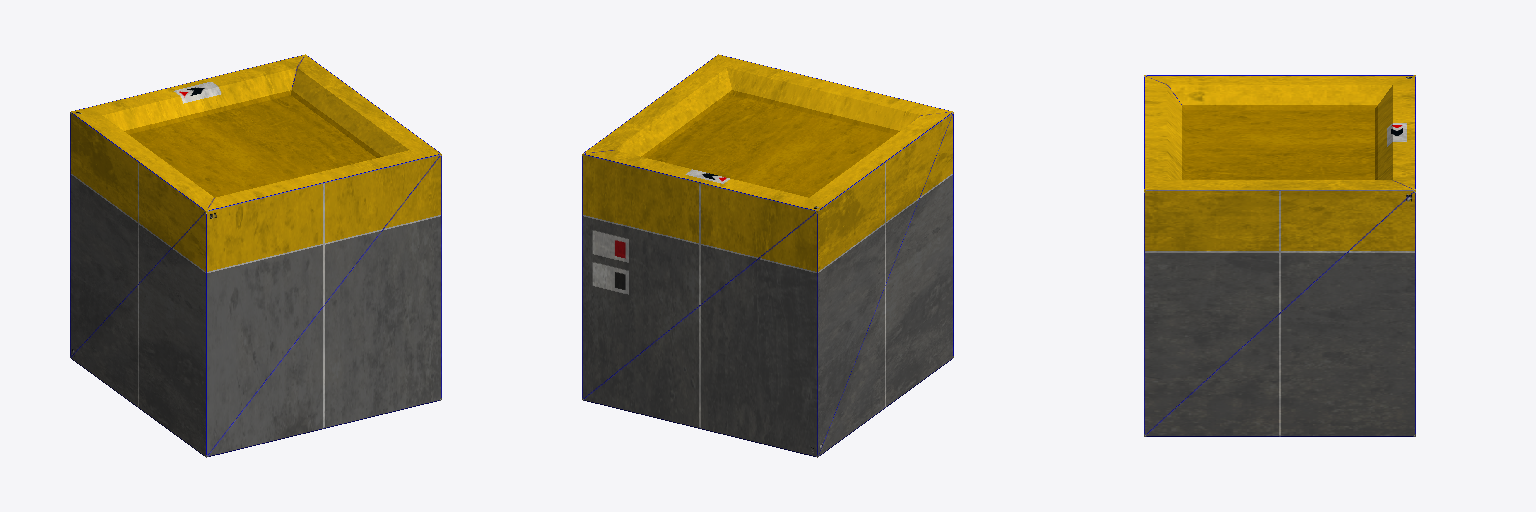
3 renders of one model, left to right at view 1: azimuth 30°, elevation 25°; view 2: azimuth 150°, elevation 25°; view 3: azimuth 270°, elevation 25°, orthographic.
Parts seen in each view (by area): view 1: texcube; view 2: texcube; view 3: texcube.
Boxes of the visible parts, x1,y1,x2,y2 form: texcube: [70, 54, 441, 457]; texcube: [582, 54, 953, 457]; texcube: [1144, 75, 1415, 436].
Bounding box in the file's own units: 0.5 × 0.5 × 0.5.
Materials: 1 (1 with a texture image).